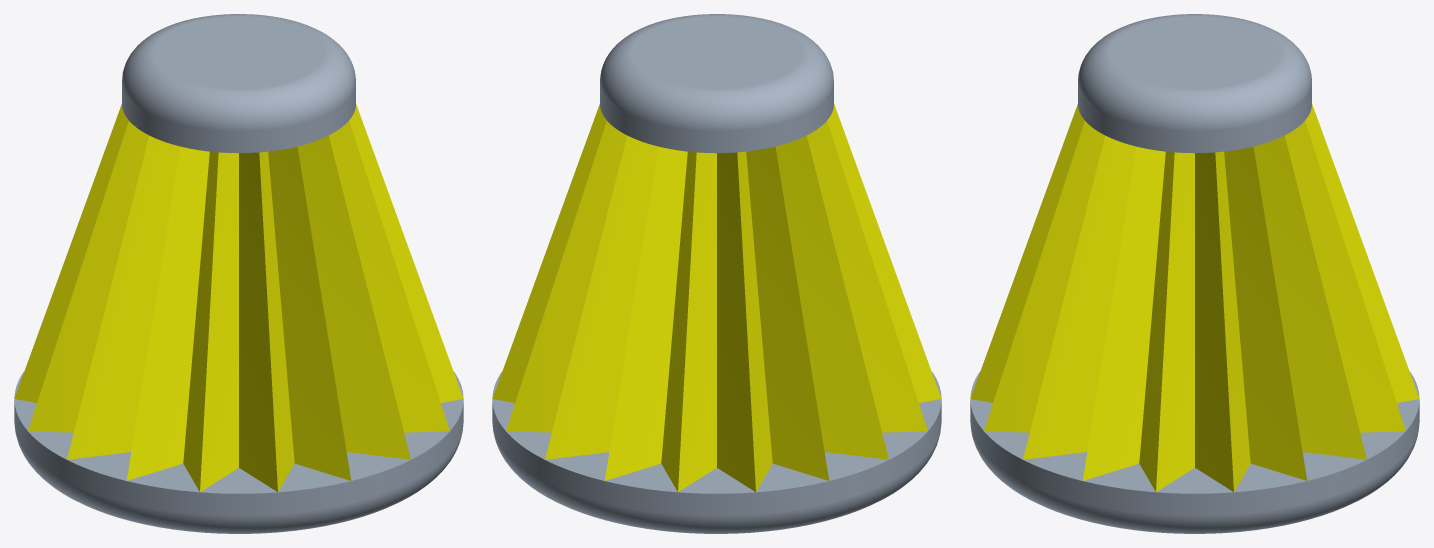
The model's file is air_filter.obj.
The picture shows the model from 3 angles, left to right: view 1: azimuth 30°, elevation 25°; view 2: azimuth 150°, elevation 25°; view 3: azimuth 270°, elevation 25°; orthographic projection.
Parts seen in each view (by area): view 1: 726, 337, 377, 417, 601, 303, 605, 345, 563, 567, 571, 637 (+28 smaller); view 2: 726, 583, 619, 659, 551, 113, 107, 589, 69, 73, 77, 151 (+29 smaller); view 3: 726, 87, 131, 173, 57, 357, 361, 321, 95, 327, 315, 397 (+29 smaller).
Boxes of the visible parts, x1=… form: 726: x1=14, y1=14, x2=463, y2=533; 337: x1=297, y1=141, x2=379, y2=453; 377: x1=268, y1=149, x2=325, y2=468; 417: x1=239, y1=153, x2=261, y2=474; 601: x1=28, y1=126, x2=137, y2=431; 303: x1=337, y1=124, x2=436, y2=432; 605: x1=43, y1=130, x2=147, y2=431; 345: x1=316, y1=137, x2=398, y2=456; 563: x1=67, y1=138, x2=158, y2=459; 567: x1=79, y1=140, x2=168, y2=458; 571: x1=95, y1=143, x2=179, y2=456; 637: x1=14, y1=105, x2=127, y2=398; 726: x1=492, y1=14, x2=941, y2=533; 583: x1=775, y1=141, x2=857, y2=453; 619: x1=746, y1=149, x2=803, y2=468; 659: x1=717, y1=153, x2=739, y2=474; 551: x1=815, y1=124, x2=914, y2=432; 113: x1=506, y1=130, x2=625, y2=431; 107: x1=506, y1=126, x2=615, y2=430; 589: x1=793, y1=137, x2=876, y2=456; 69: x1=545, y1=138, x2=636, y2=459; 73: x1=562, y1=141, x2=646, y2=457; 77: x1=579, y1=143, x2=657, y2=455; 151: x1=492, y1=112, x2=605, y2=398; 726: x1=970, y1=14, x2=1419, y2=533; 87: x1=1253, y1=141, x2=1335, y2=453; 131: x1=1224, y1=149, x2=1281, y2=468; 173: x1=1195, y1=153, x2=1217, y2=474; 57: x1=1292, y1=124, x2=1392, y2=432; 357: x1=984, y1=126, x2=1093, y2=431; 361: x1=998, y1=129, x2=1104, y2=431; 321: x1=1023, y1=140, x2=1124, y2=459; 95: x1=1272, y1=137, x2=1354, y2=456; 327: x1=1050, y1=143, x2=1135, y2=456; 315: x1=1023, y1=138, x2=1114, y2=459; 397: x1=970, y1=112, x2=1083, y2=398.
Size of the model in its own units: 140 by 136 by 140.
